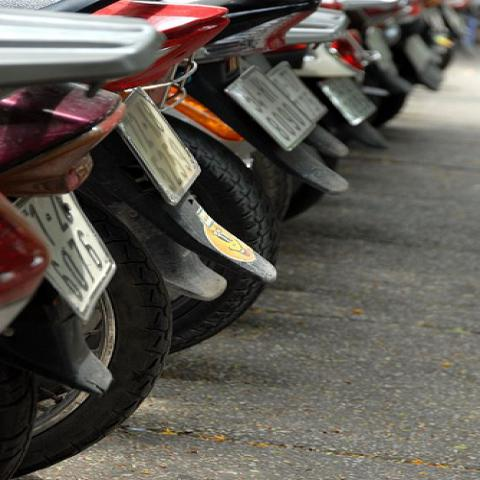motorcycle: (3, 3, 288, 478), (5, 6, 171, 474), (190, 0, 350, 225), (174, 97, 278, 353), (320, 2, 415, 128), (274, 46, 390, 148), (127, 216, 226, 300), (264, 7, 380, 78), (362, 0, 444, 91), (418, 3, 466, 46), (417, 17, 453, 68)
